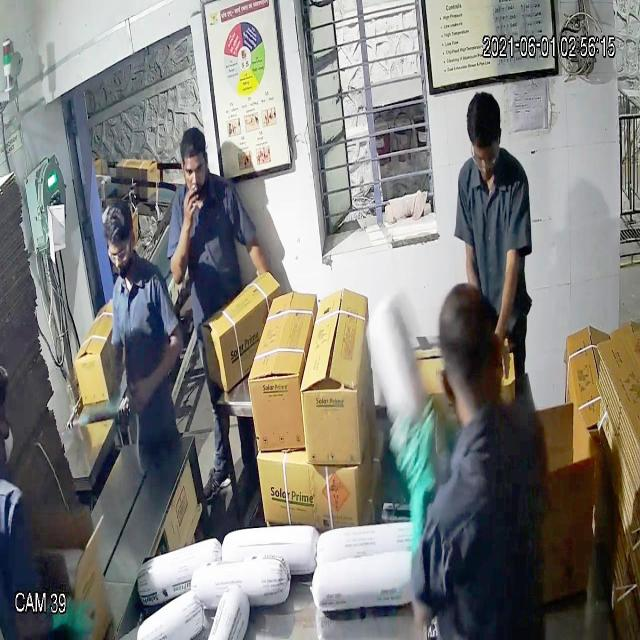glasses: (104, 236, 138, 274)
